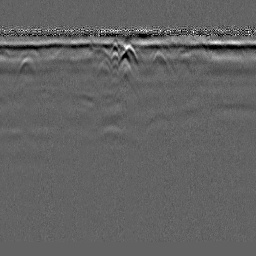cavity: (117, 42, 139, 66)
